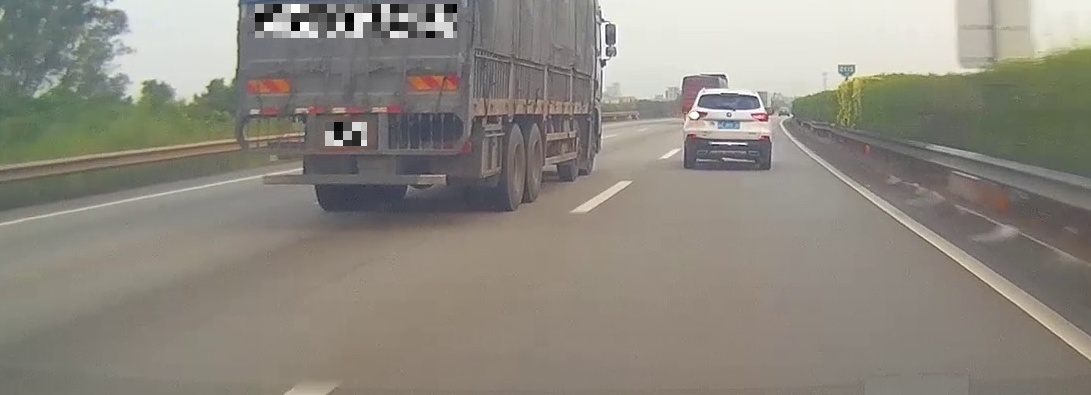L_light: (688, 111, 708, 120)
R_light: (750, 113, 769, 122)
T_light: (720, 92, 739, 97)
day-right: (685, 87, 771, 170)
plate_1: (255, 4, 457, 38)
plate_2: (325, 122, 367, 146)
